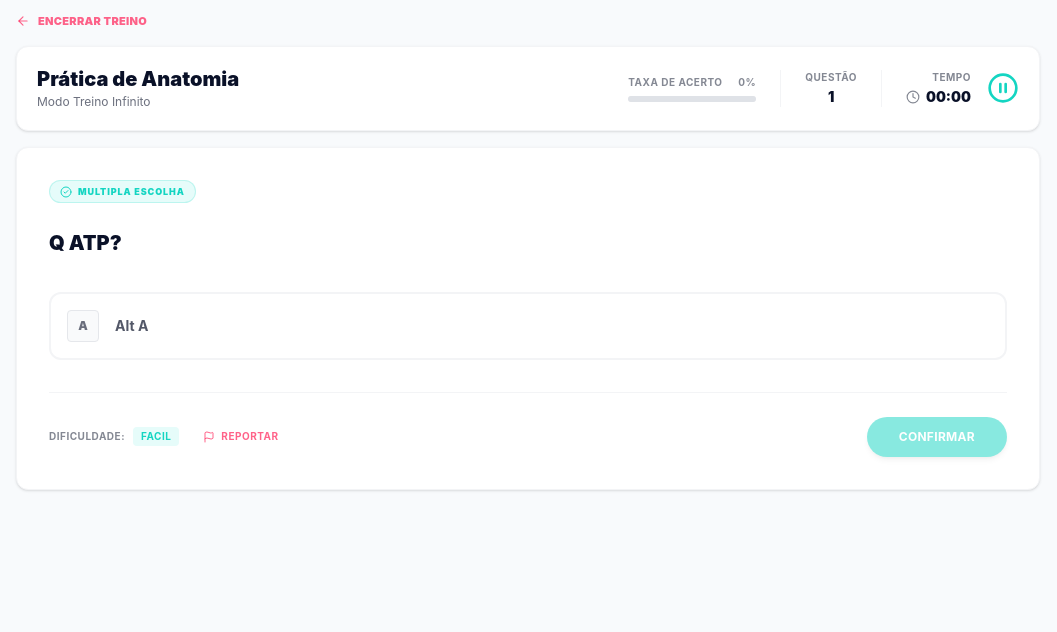
Scenario: ResponderQuizPage - Treino Infinito › deve exibir ganho de ATP e atualizar saldo global ao acertar
Check: the heading "Q ATP?" is shown, box x1=49 y1=231 x2=122 y2=255
Click the text "Alt A": (132, 326) x1=115 y1=316 x2=148 y2=336
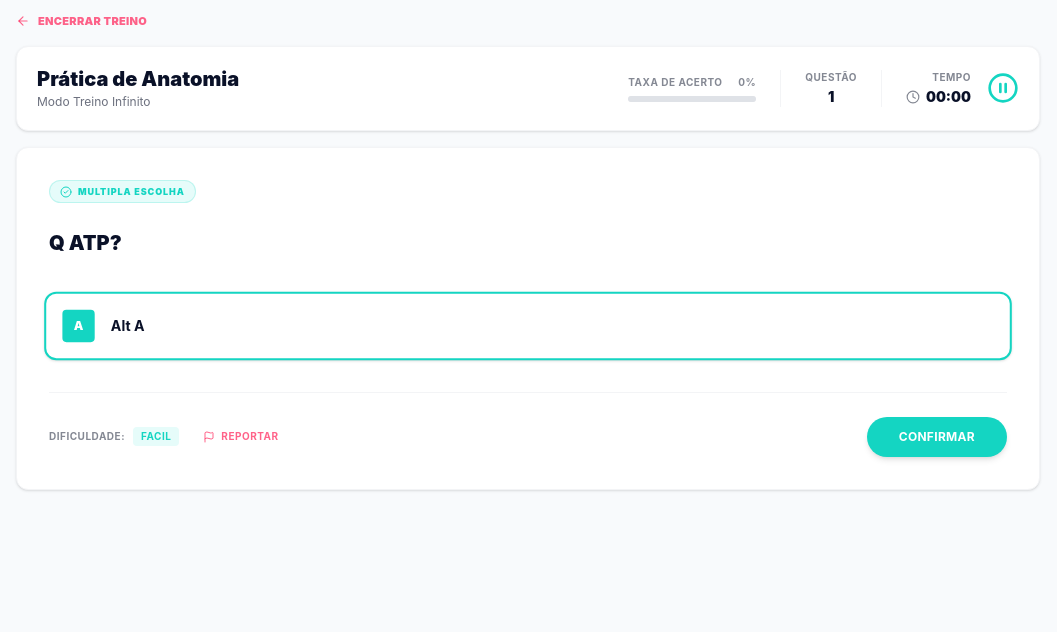
Click the button "Confirmar": (937, 437) x1=867 y1=417 x2=1007 y2=457
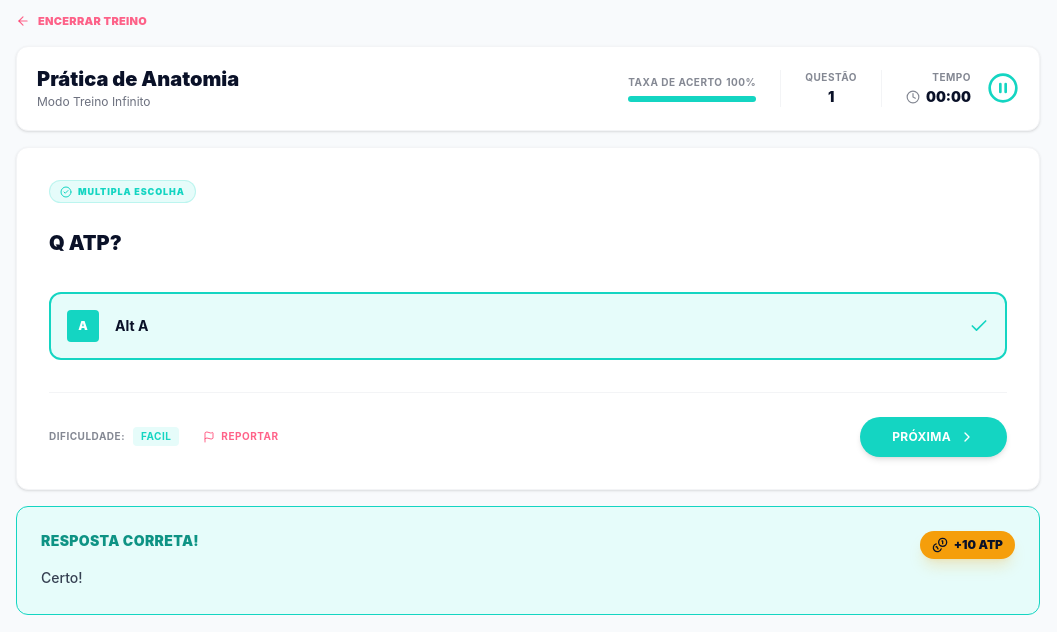
Check: the text "+10 ATP" is shown, box x1=920 y1=531 x2=1015 y2=559
